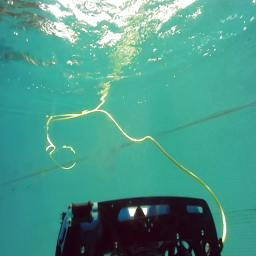Side: (54, 195, 222, 256)
